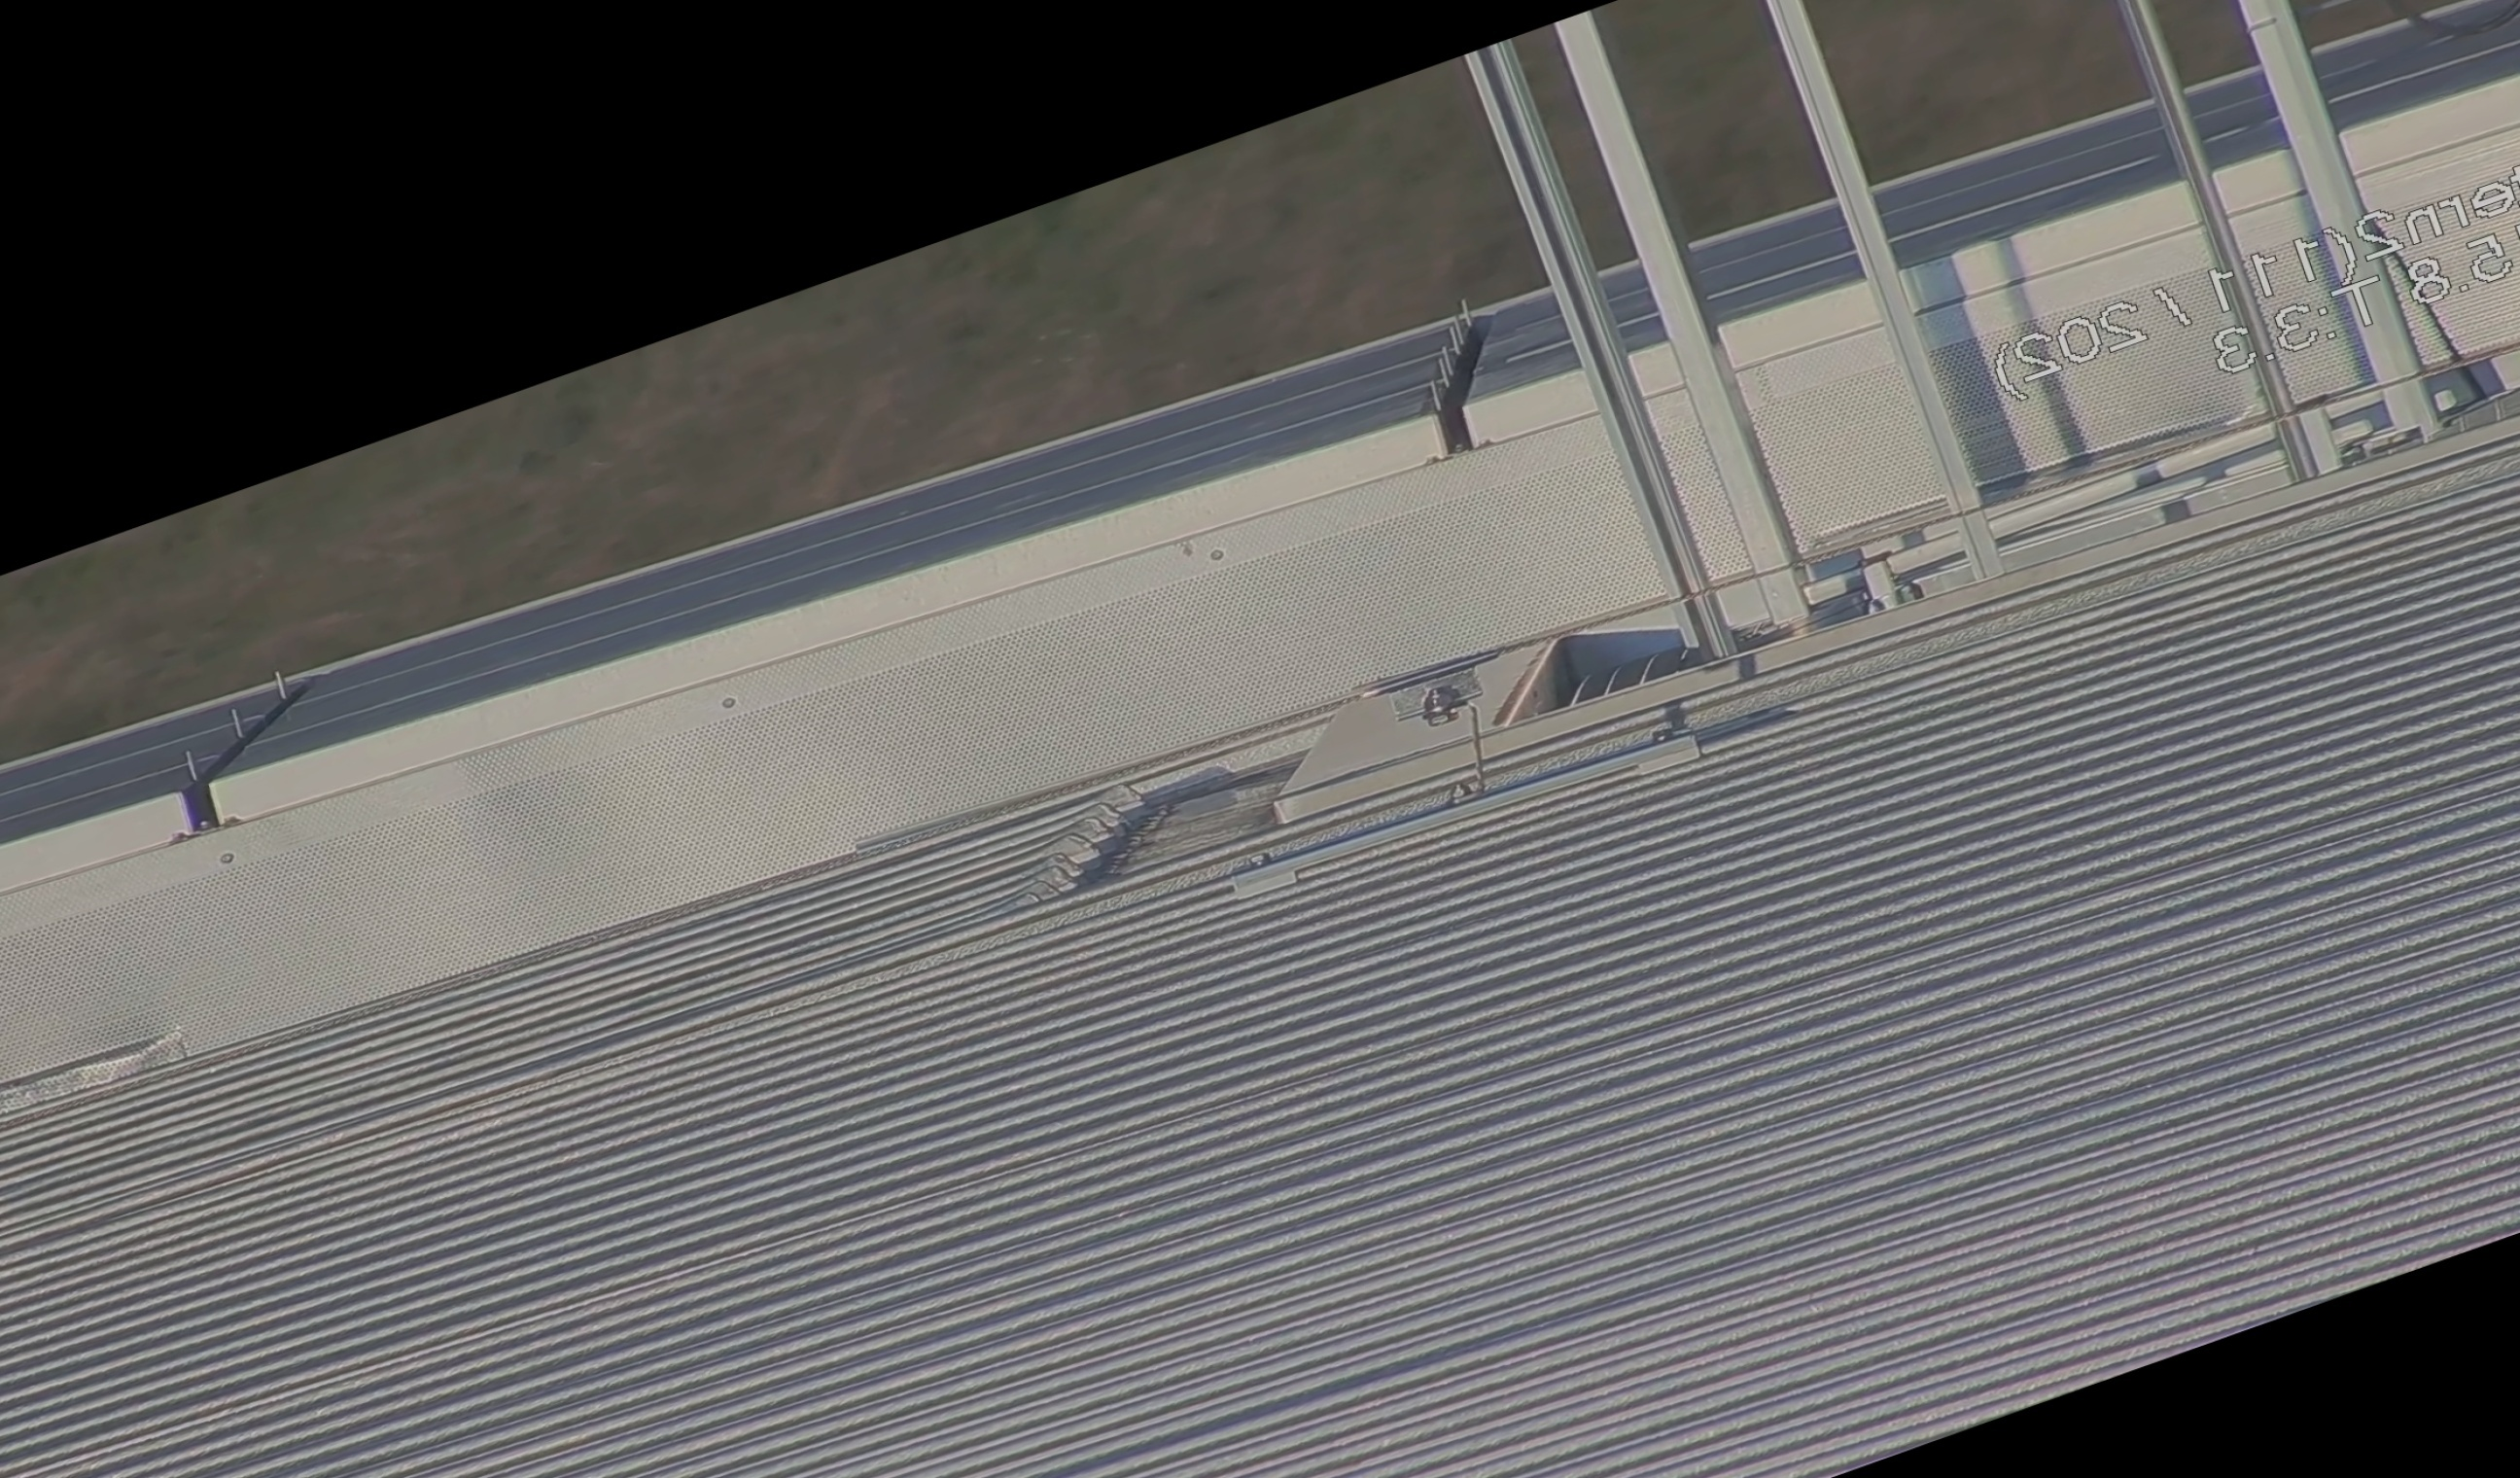Other: (1375, 285, 1567, 475)
